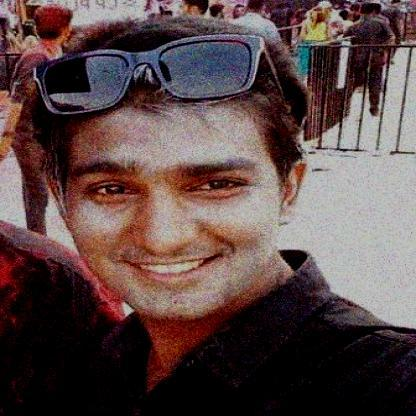without_mask: (85, 161, 296, 303)
